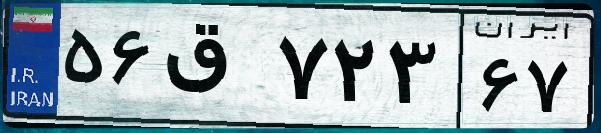2: (330, 28, 385, 110)
3: (385, 28, 445, 110)
5: (57, 26, 110, 100)
6: (475, 38, 525, 113), (110, 28, 158, 98)
7: (270, 28, 330, 110), (525, 38, 570, 115)
ق: (158, 20, 270, 120)
